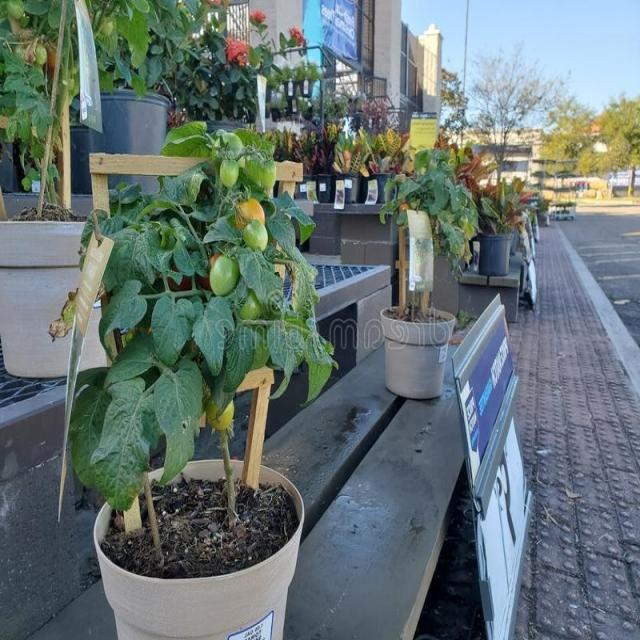plant: (145, 0, 302, 121)
tomato: (69, 122, 334, 509), (382, 148, 479, 276), (0, 0, 60, 185), (87, 0, 158, 92), (60, 0, 78, 99)
